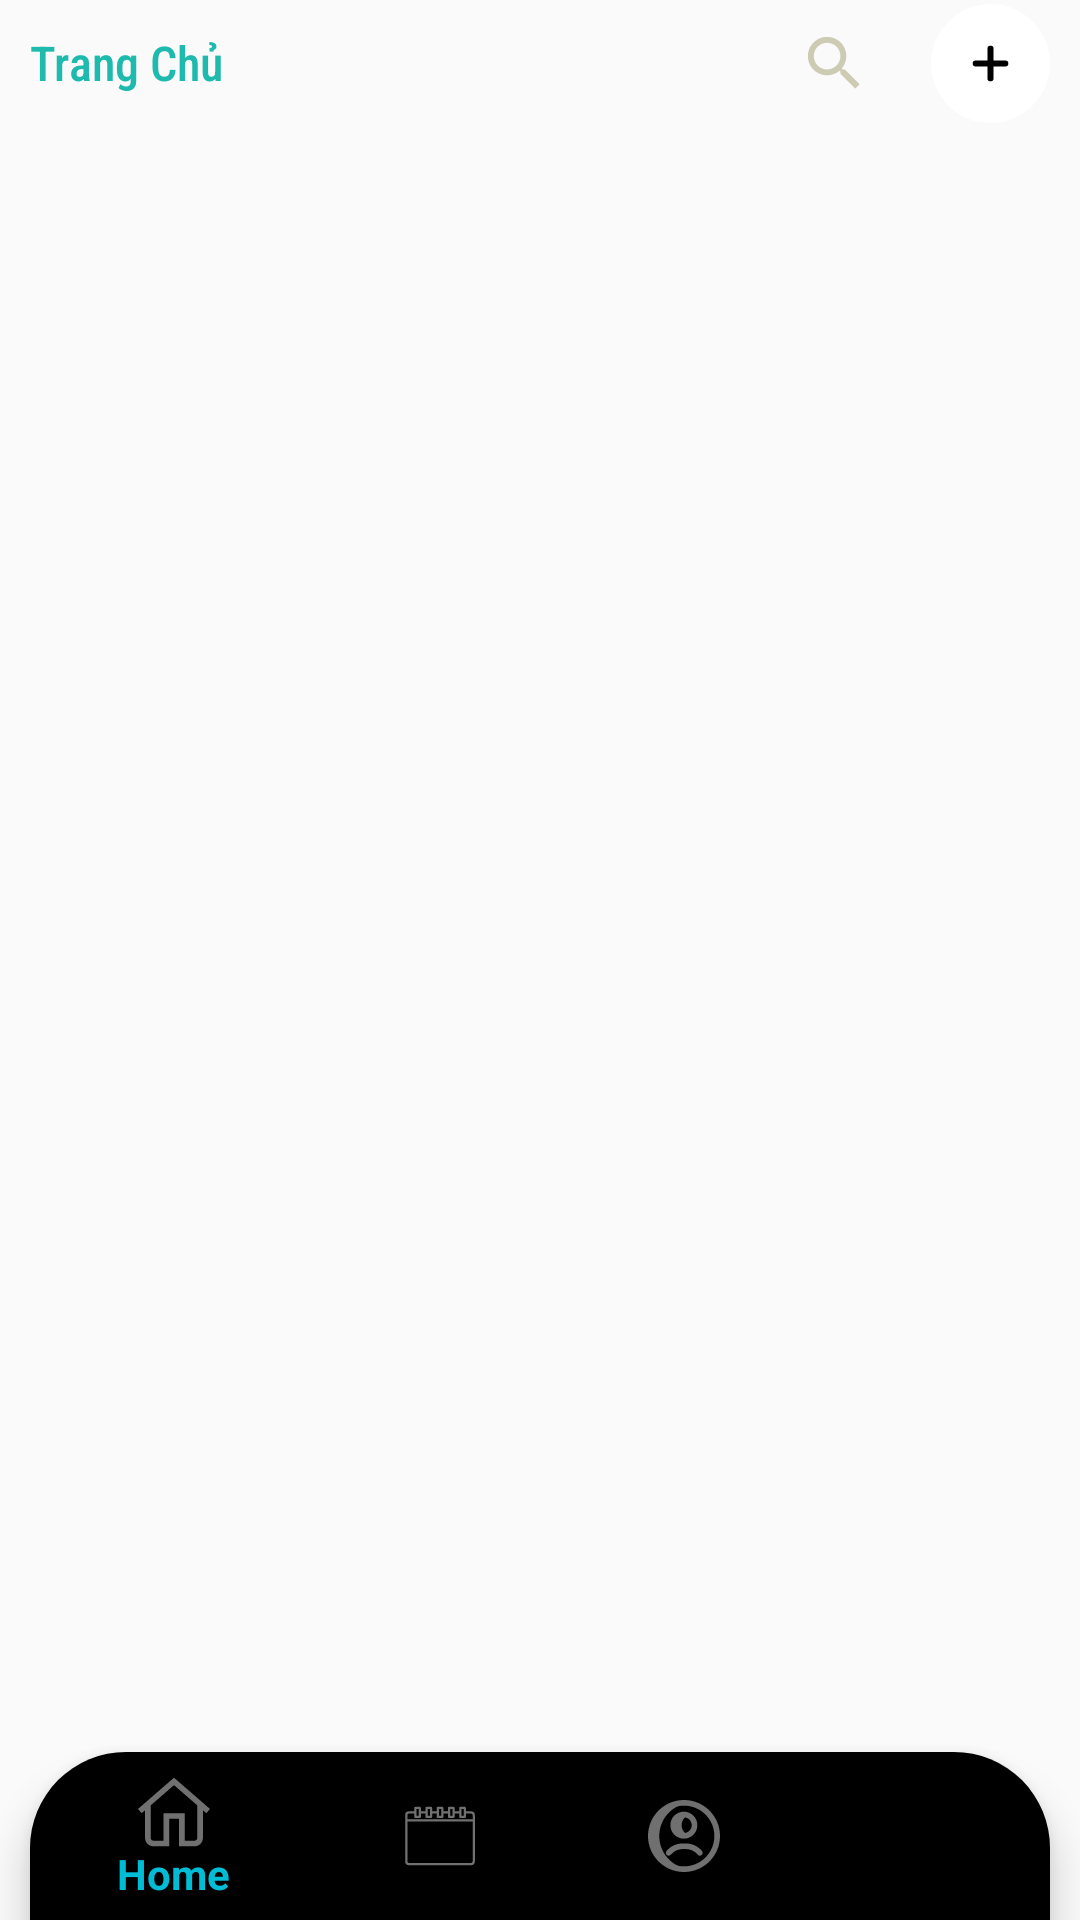

Icon bounding boxes for this 1080px×1920px phone screenshot, format (x1, y1, x2, y2):
search: (808, 37, 859, 88)
